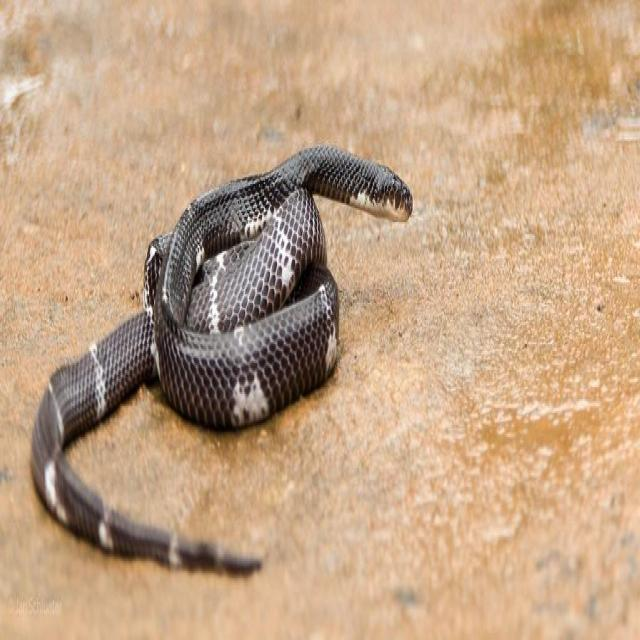Snake: (30, 139, 412, 572)
